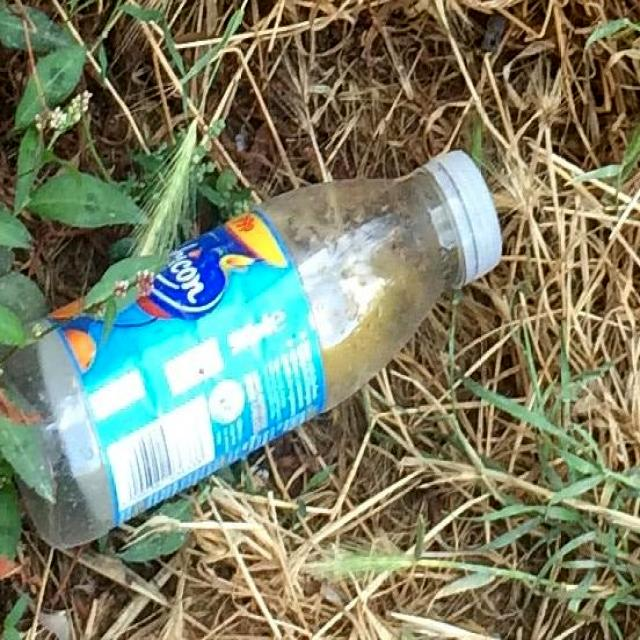Plastic: (0, 131, 513, 569)
